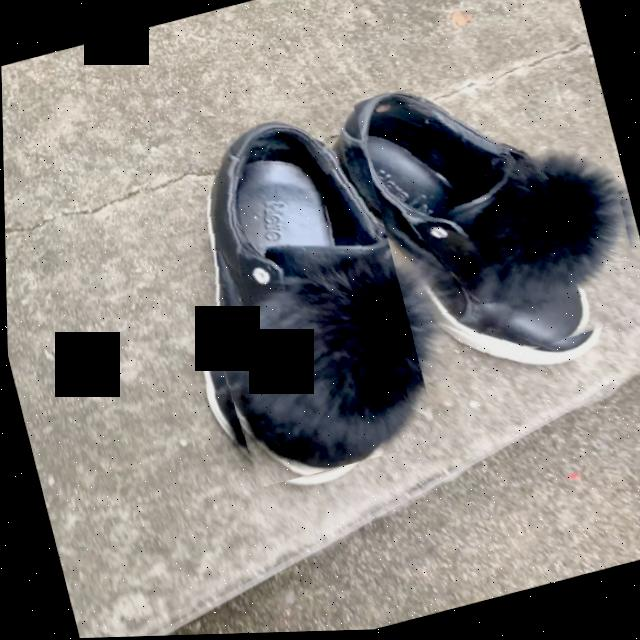shoe: (208, 125, 422, 473), (334, 93, 623, 346)
